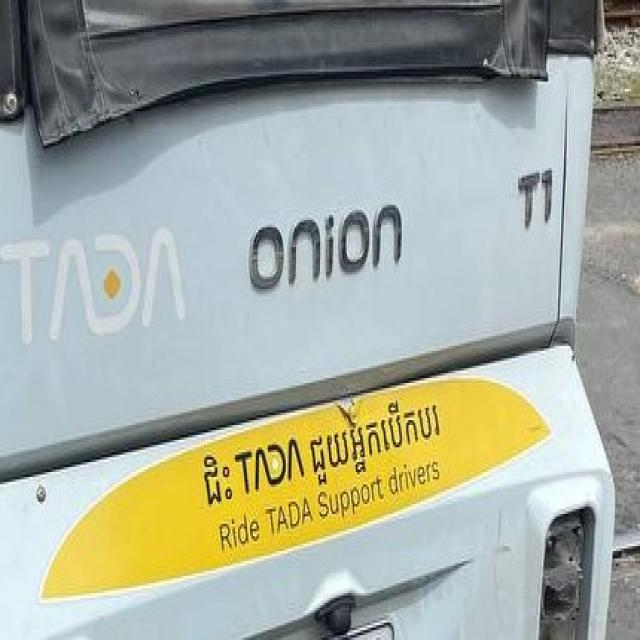Yolov11kh: (304, 390, 448, 494), (189, 432, 235, 524)
